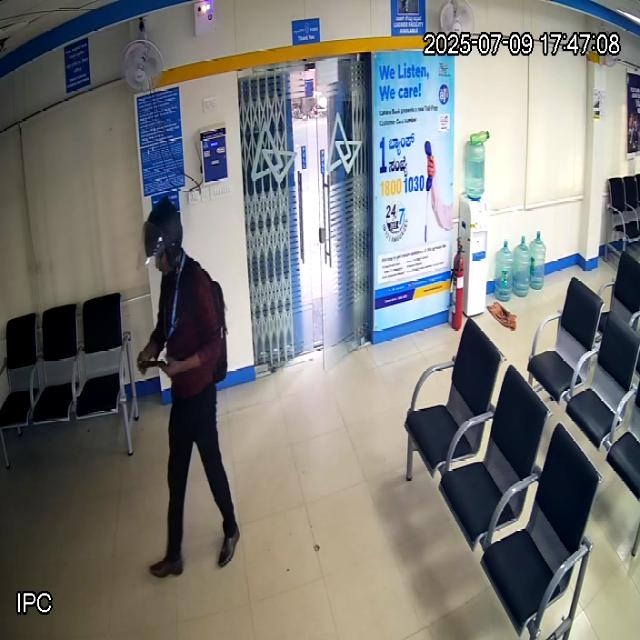helmet: (141, 194, 183, 277)
